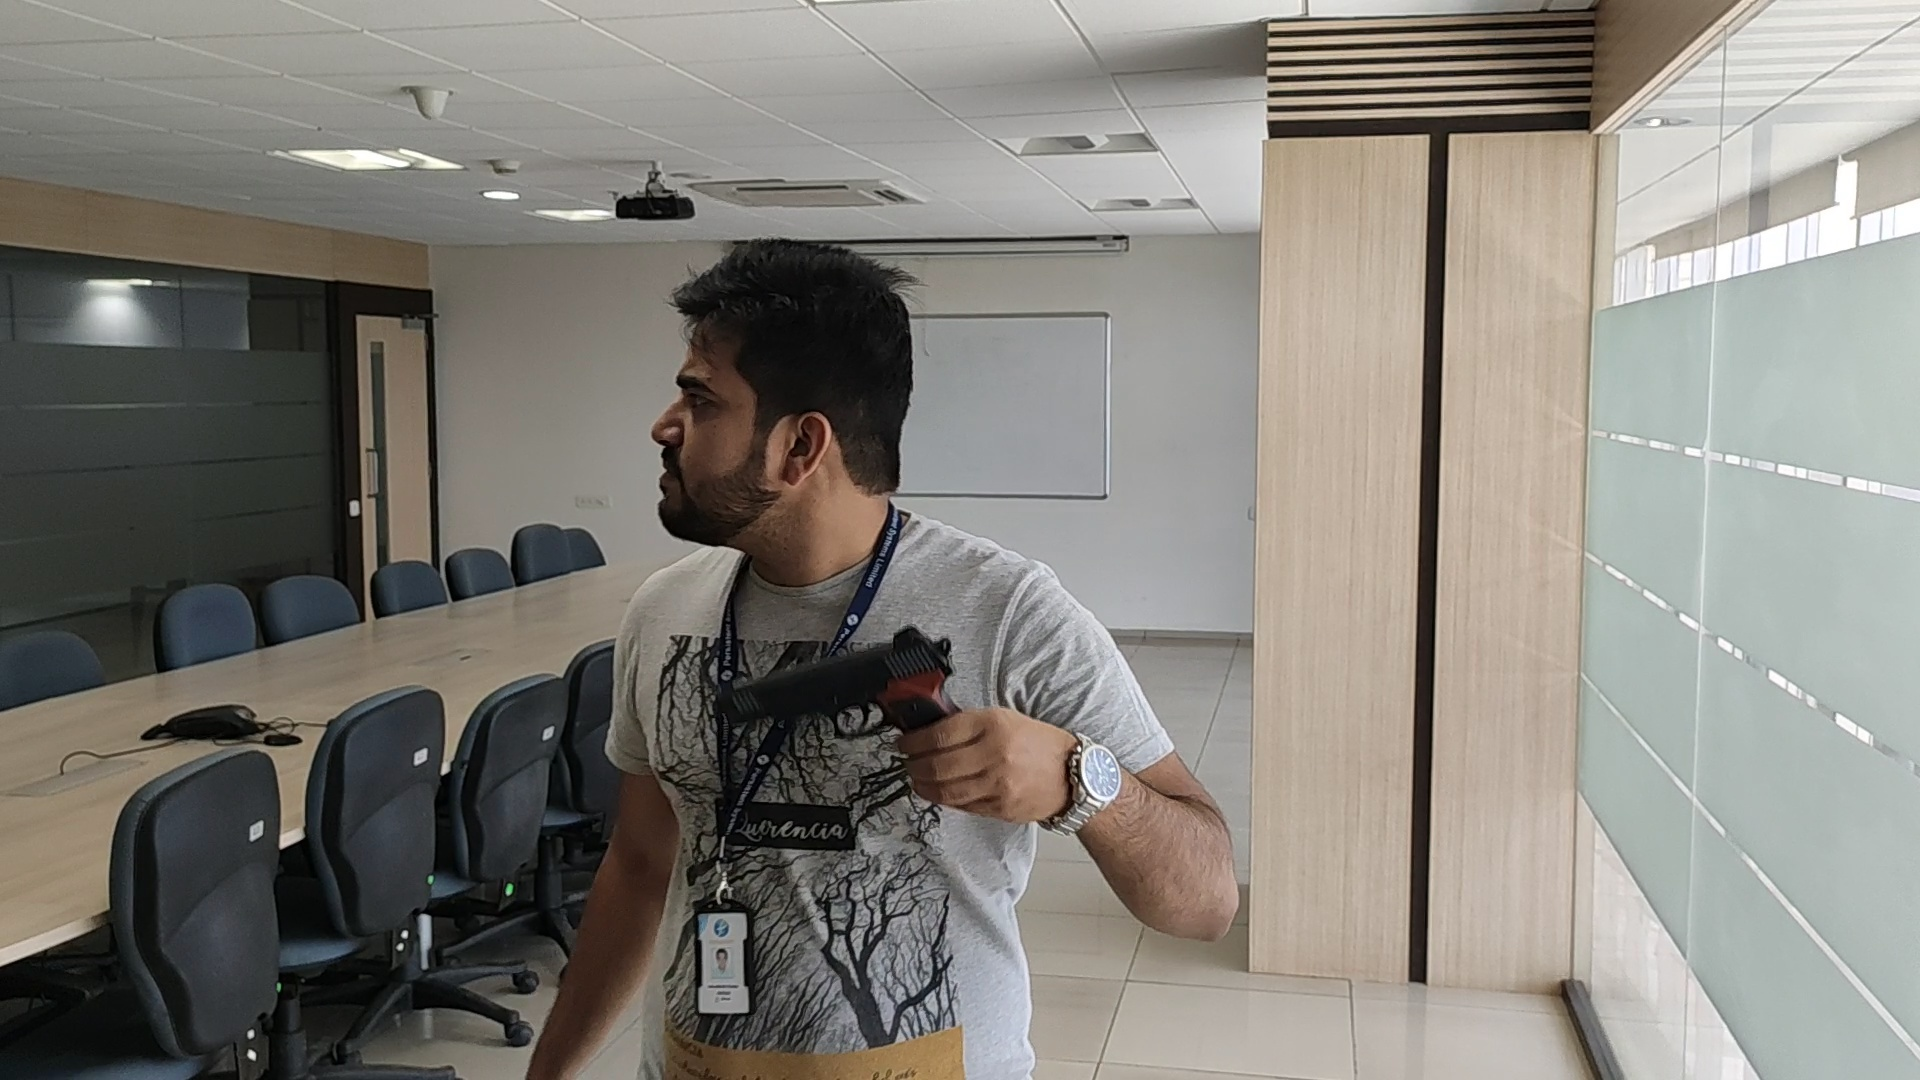gun: (721, 626, 963, 712)
